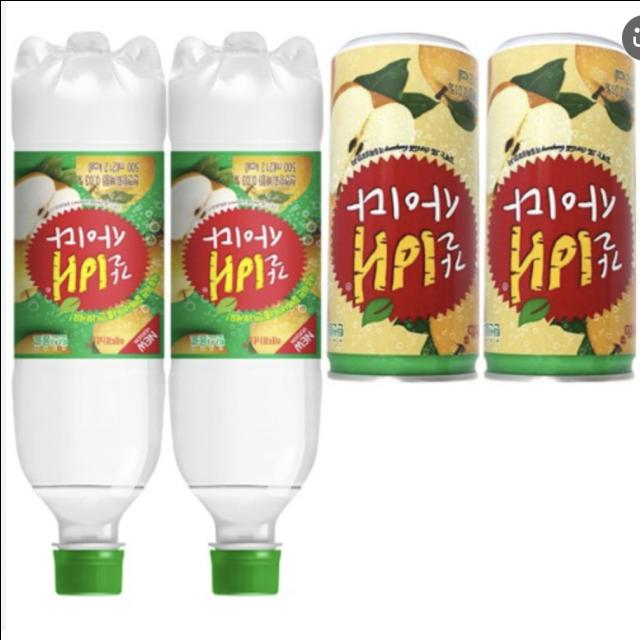can: (326, 32, 484, 406), (481, 30, 636, 402)
plastic bottles: (0, 17, 176, 614), (162, 23, 330, 611)
